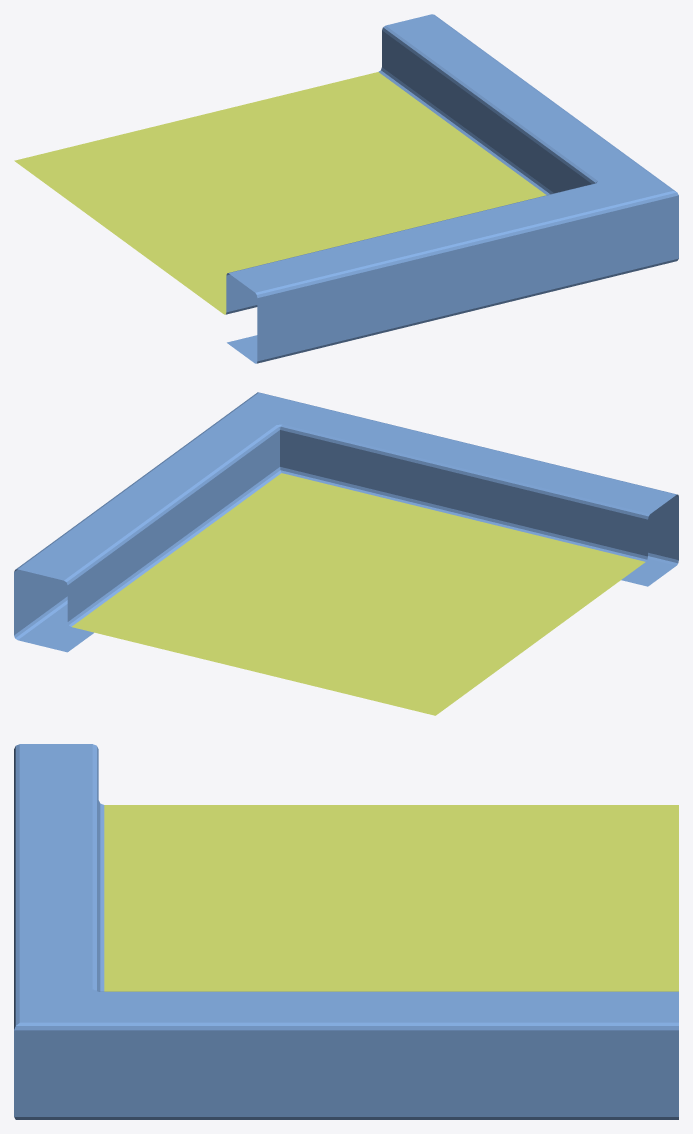
File: Roof_1_Corner_Outer.fbx
3 views of the same model, one above another, from view 1: azimuth 30°, elevation 25°; view 2: azimuth 150°, elevation 25°; view 3: azimuth 270°, elevation 25° (orthographic). The views are drawn at different scales.
Parts seen in each view (by area): view 1: Roof_1_Corner_Outer; view 2: Roof_1_Corner_Outer; view 3: Roof_1_Corner_Outer.
Boxes of the visible parts, <box> form: Roof_1_Corner_Outer: <box>14,14,678,363</box>; Roof_1_Corner_Outer: <box>14,392,678,715</box>; Roof_1_Corner_Outer: <box>14,744,678,1119</box>.
Size of the model in its own units: 229 by 36.85 by 229.
